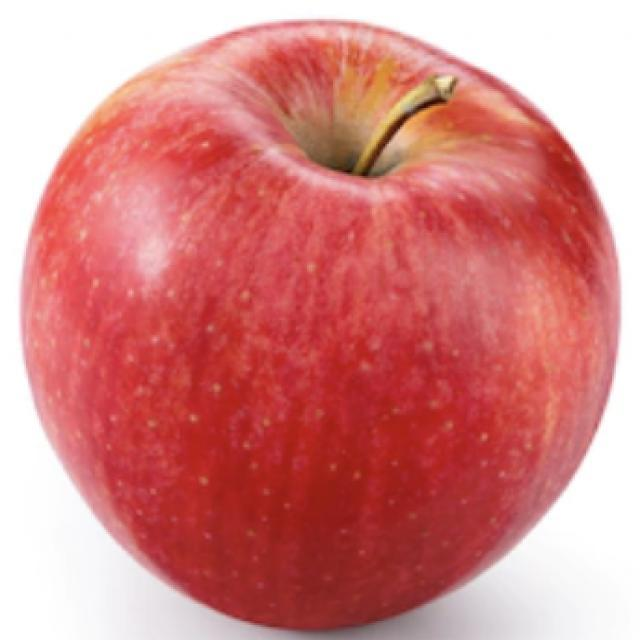Fresh Apple: (43, 26, 640, 639)
